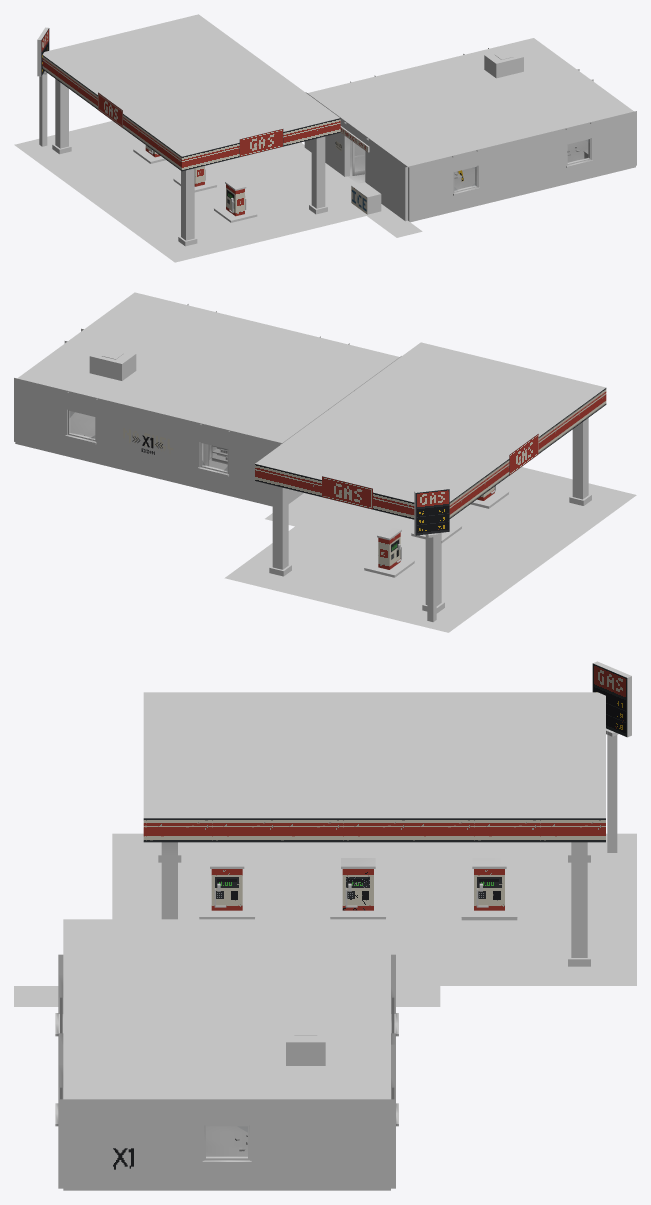
File: gas_station_town.glb
The picture shows the model from 3 angles, top to bottom: view 1: azimuth 30°, elevation 25°; view 2: azimuth 150°, elevation 25°; view 3: azimuth 270°, elevation 25°; orthographic projection. The views are drawn at different scales.
Parts seen in each view (by area): view 1: gas_station_town; view 2: gas_station_town; view 3: gas_station_town.
Part boxes in pixels (<box>): gas_station_town: <box>14,14,636,262</box>; gas_station_town: <box>14,292,636,632</box>; gas_station_town: <box>14,661,636,1190</box>.
Bounding box in the file's own units: 25.74 × 6.15 × 19.
4 materials, 3 textured.
